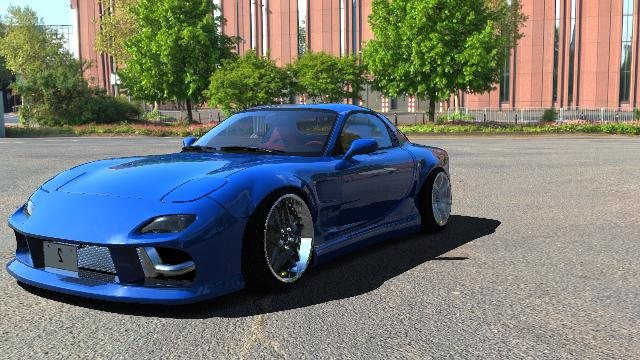License Plate: (42, 241, 78, 274)
